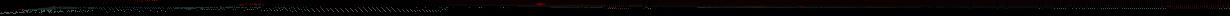Blue cone: (18, 9, 24, 10), (52, 6, 56, 7)
Yellow cone: (535, 3, 546, 6), (797, 6, 804, 8)
